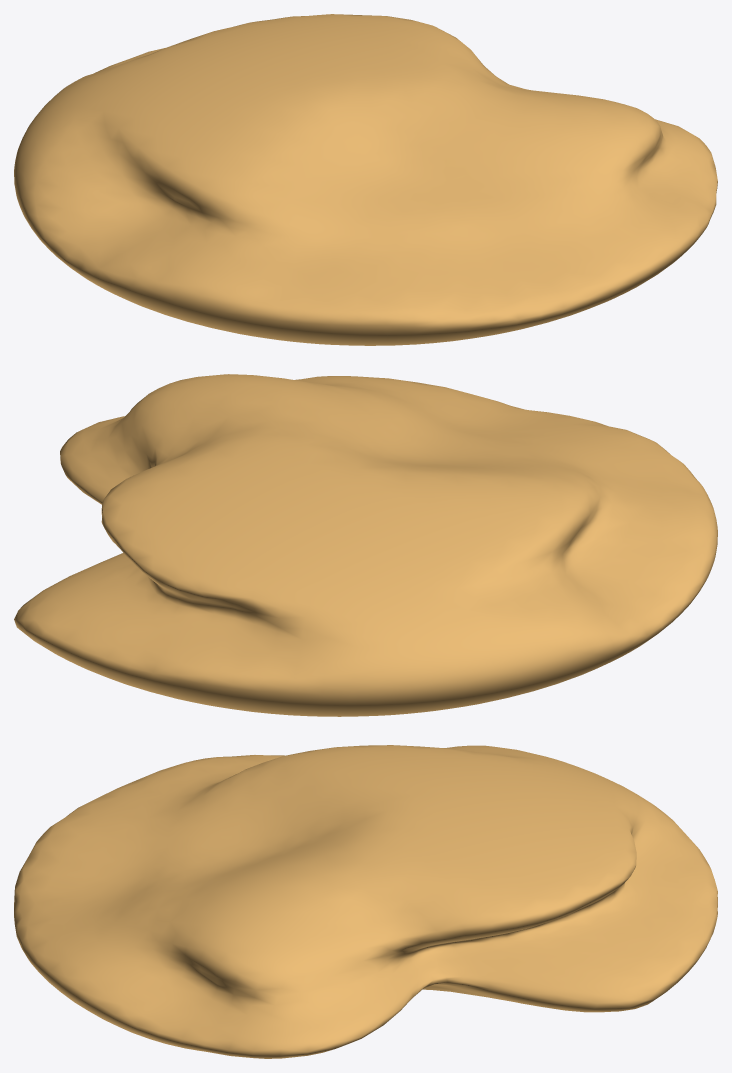
The model's file is Island.fbx.
3 renders of one model, top to bottom at view 1: azimuth 30°, elevation 25°; view 2: azimuth 150°, elevation 25°; view 3: azimuth 270°, elevation 25°, orthographic. The views are drawn at different scales.
Visible parts, largest first — view 1: Icosphere; view 2: Icosphere; view 3: Icosphere.
Boxes of the visible parts, bbox=[...] form: Icosphere: bbox=[14, 14, 717, 345]; Icosphere: bbox=[14, 374, 717, 716]; Icosphere: bbox=[14, 745, 717, 1058].
Size of the model in its own units: 2882 by 740 by 2954.
